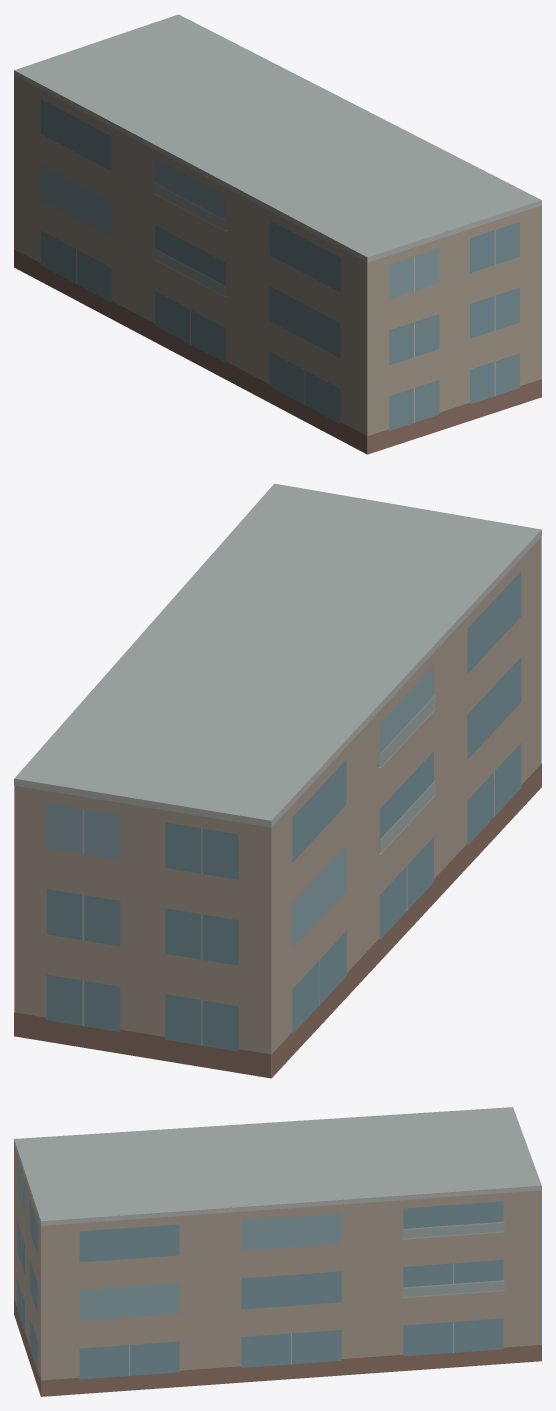
File: survey-upis-32798677.glb
3 views of the same model, one above another, from view 1: azimuth 30°, elevation 25°; view 2: azimuth 150°, elevation 25°; view 3: azimuth 270°, elevation 25° (orthographic). The views are drawn at different scales.
Parts seen in each view (by area): view 1: survey-upis-32798677.tmp; view 2: survey-upis-32798677.tmp; view 3: survey-upis-32798677.tmp.
Boxes of the visible parts, box(x1,y1,x2,y2) form: survey-upis-32798677.tmp: box(14, 14, 541, 454); survey-upis-32798677.tmp: box(14, 483, 541, 1078); survey-upis-32798677.tmp: box(14, 1107, 541, 1396).
Bounding box in the file's own units: 12.78 × 9.15 × 24.94.
